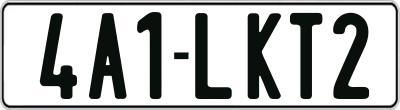1: (134, 10, 160, 99)
2: (333, 10, 375, 98)
4: (39, 10, 79, 99)
A: (89, 11, 131, 103)
K: (247, 10, 284, 100)
L: (192, 10, 229, 102)
T: (290, 13, 325, 104)
